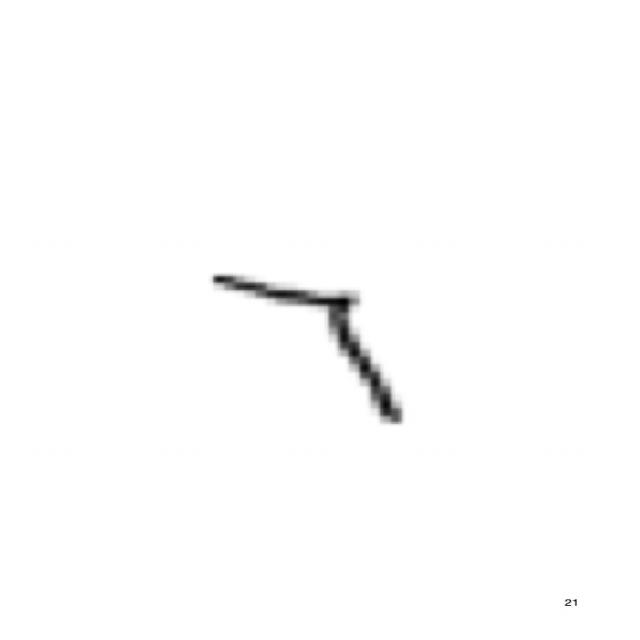6 -six-: (202, 263, 411, 434)
